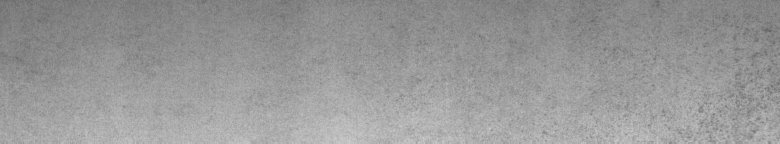ib: (604, 27, 776, 132)
